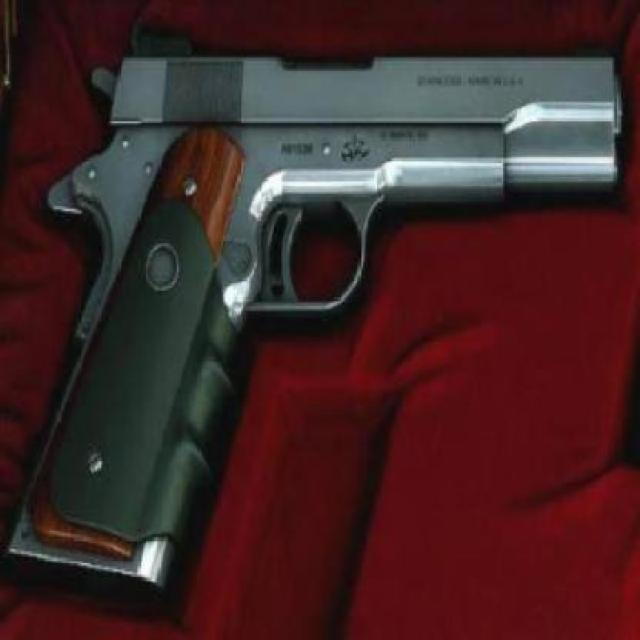gun: (2, 29, 624, 612)
